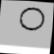no answer: (18, 4, 47, 34)
